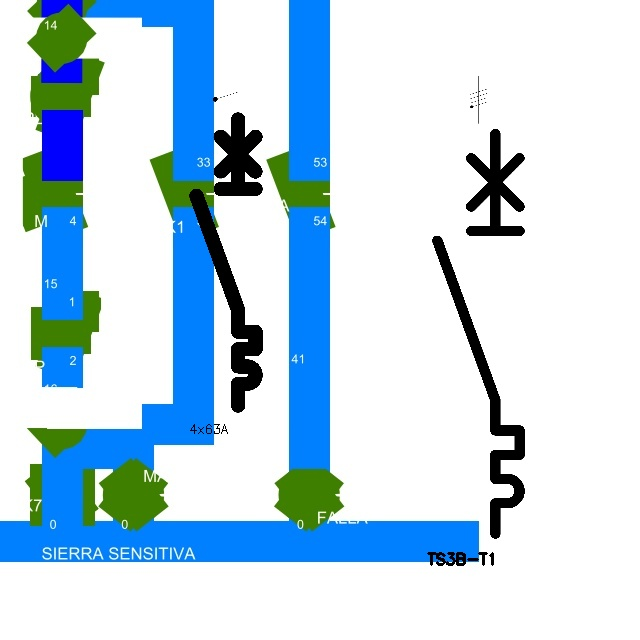interruptor_termomagnetico: (427, 123, 530, 543), (189, 112, 263, 413)
